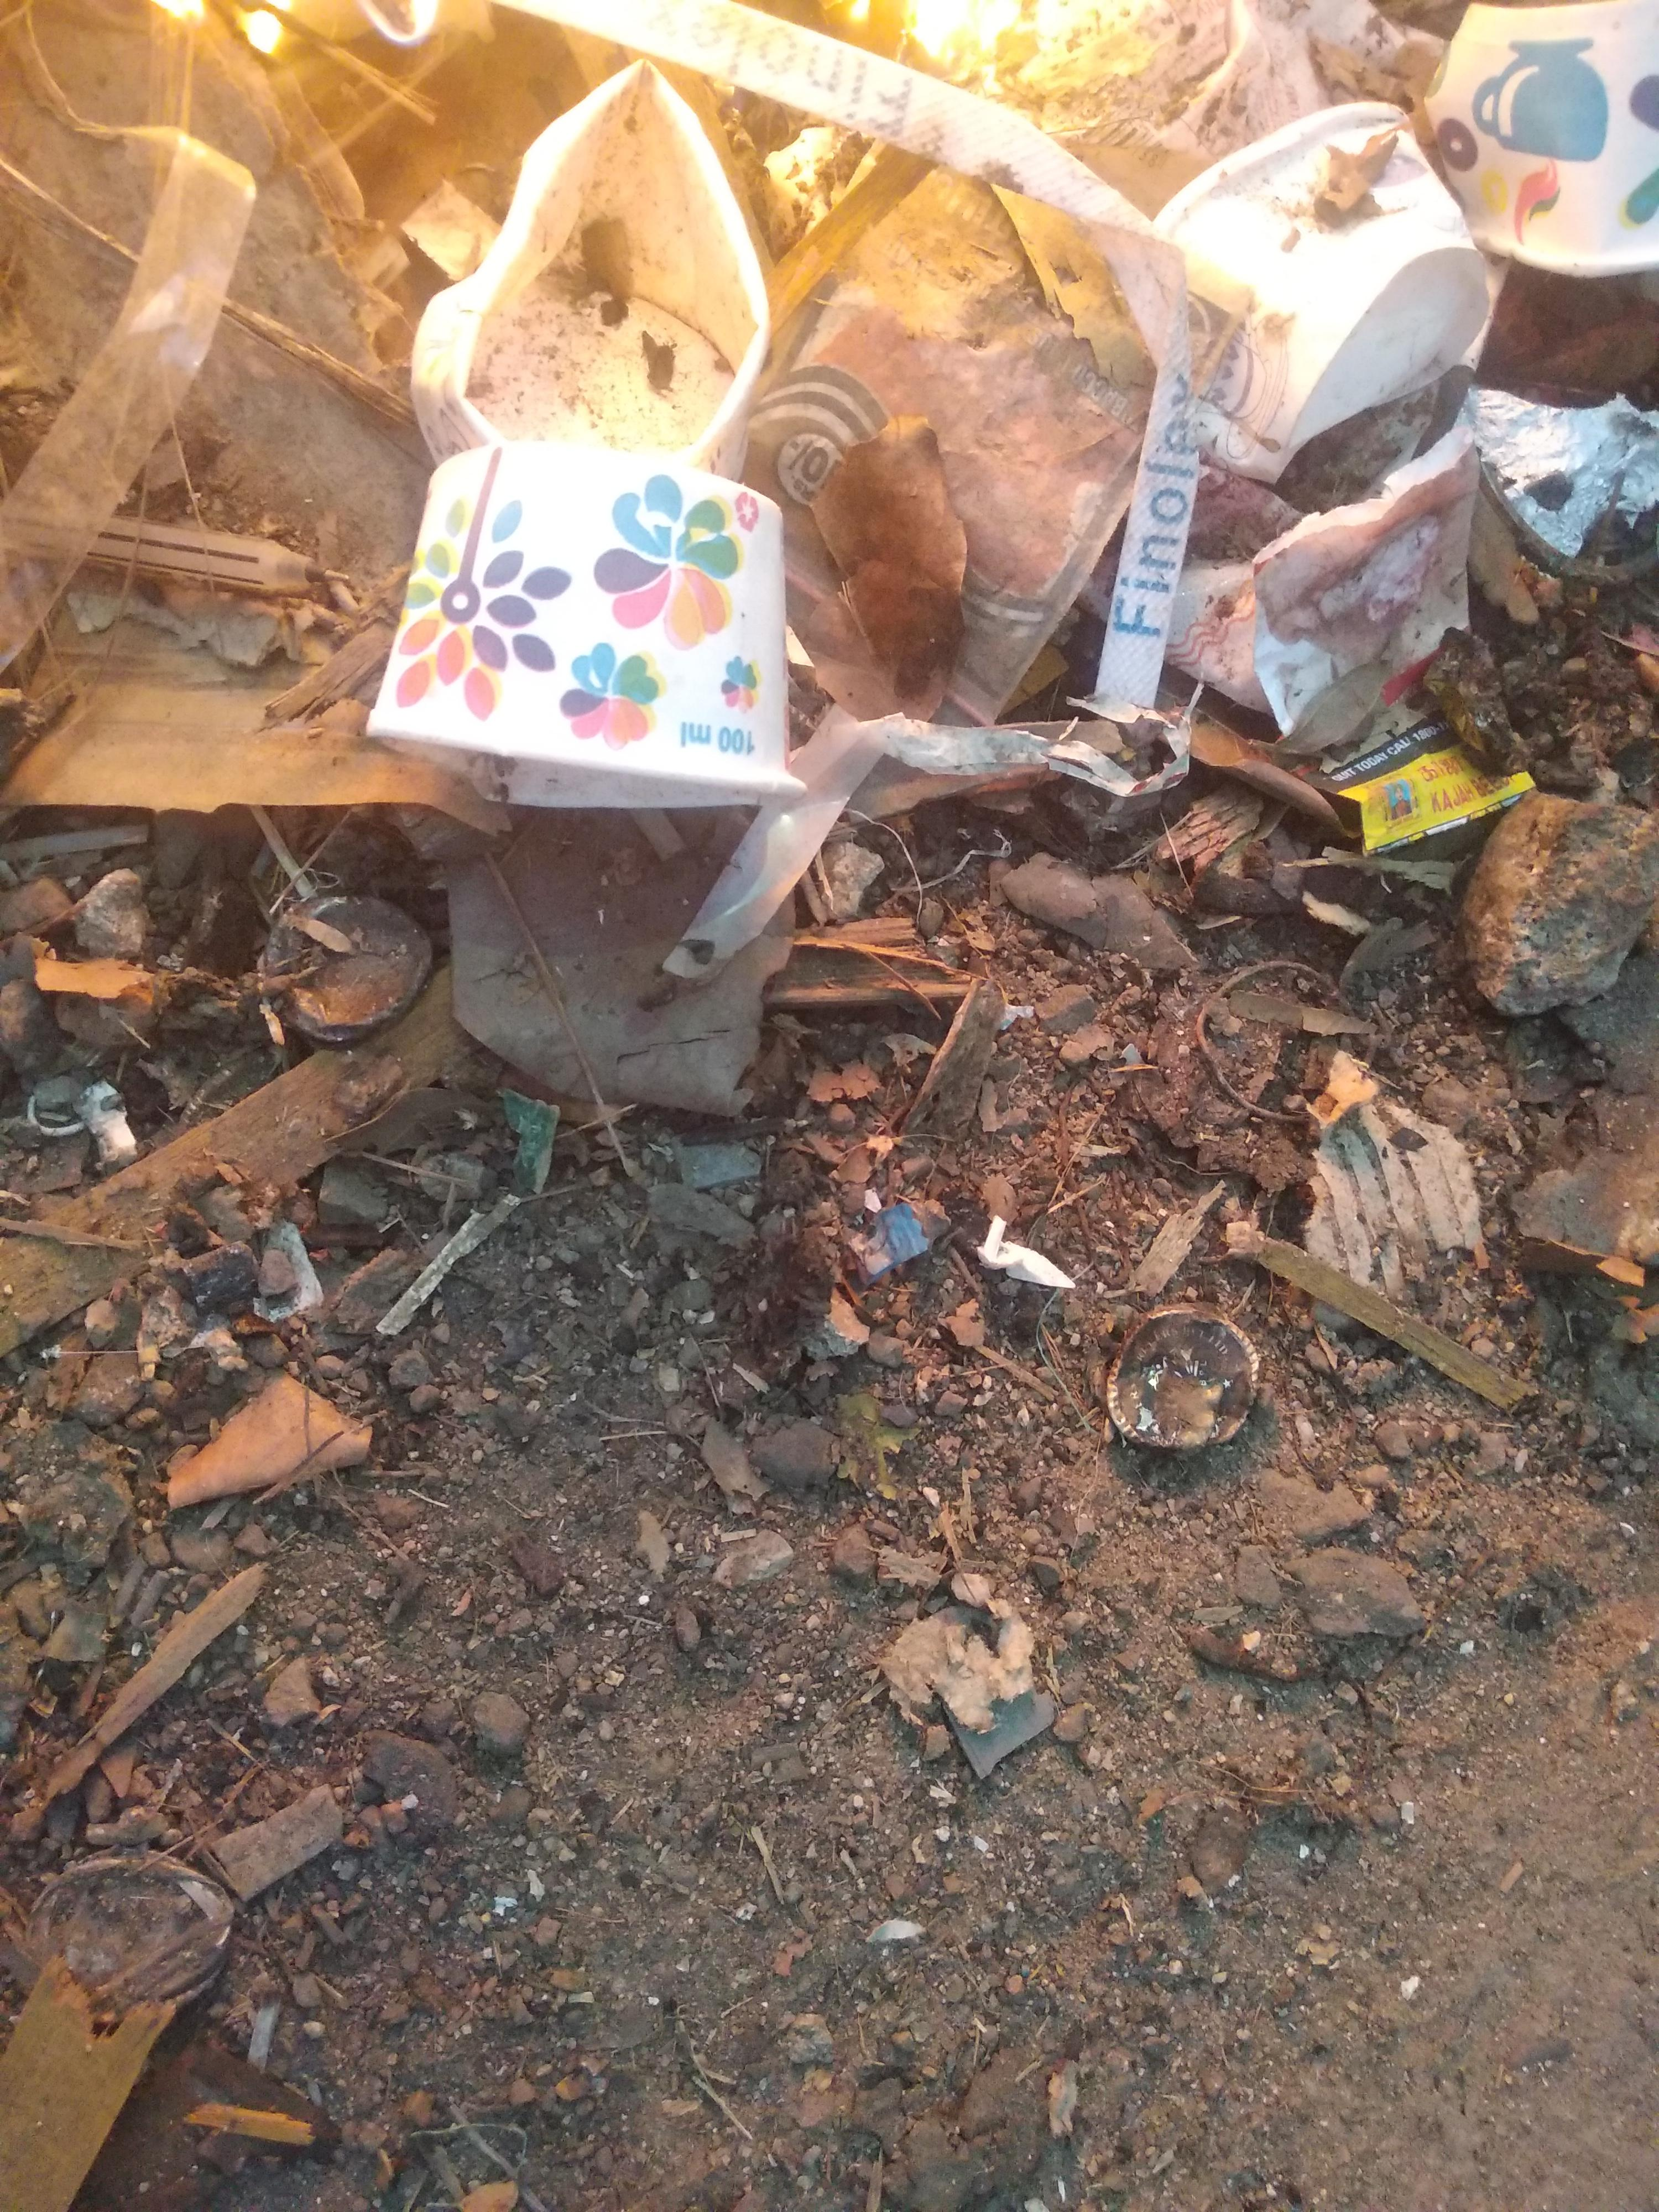trash: (22, 0, 1653, 1473)
